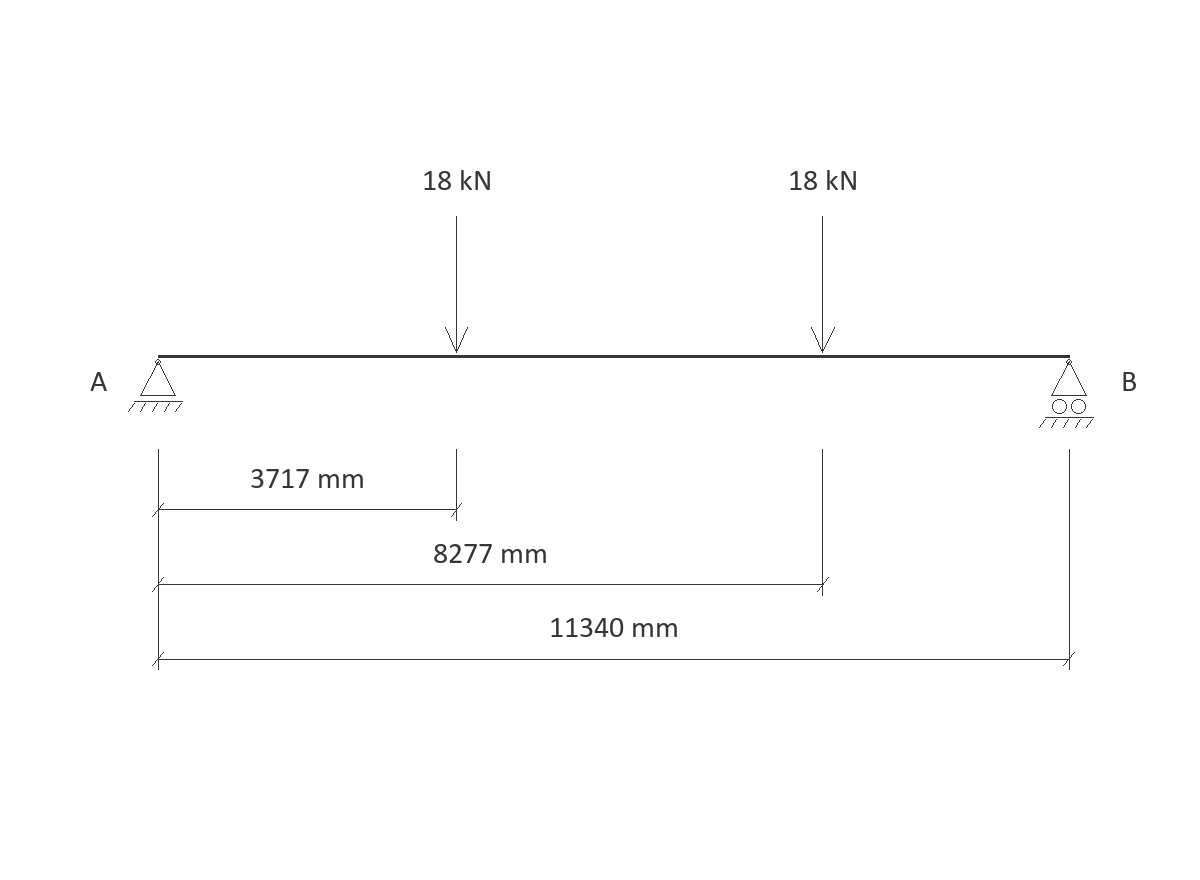pin_support: (128, 359, 183, 412)
point_load: (811, 216, 835, 353), (445, 216, 468, 353)
roller_support: (1039, 359, 1094, 428)
